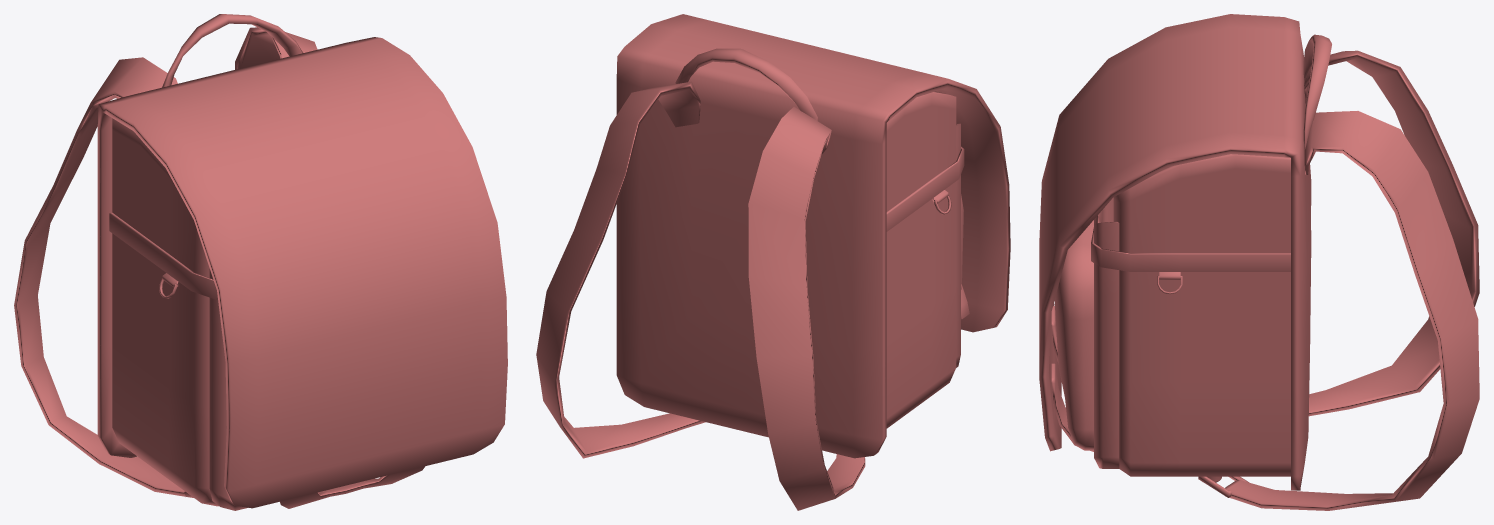
Rendered from backpack1.fbx.
The picture shows the model from 3 angles, left to right: view 1: azimuth 30°, elevation 25°; view 2: azimuth 150°, elevation 25°; view 3: azimuth 270°, elevation 25°; orthographic projection. The views are drawn at different scales.
Visible parts, largest first — view 1: School Backpack1; view 2: School Backpack1; view 3: School Backpack1.
Part boxes in pixels (x1=…): School Backpack1: x1=14, y1=14, x2=507, y2=510; School Backpack1: x1=536, y1=14, x2=1010, y2=510; School Backpack1: x1=1039, y1=14, x2=1479, y2=510.
Size of the model in its own units: 26.74 by 37.58 by 35.76.
